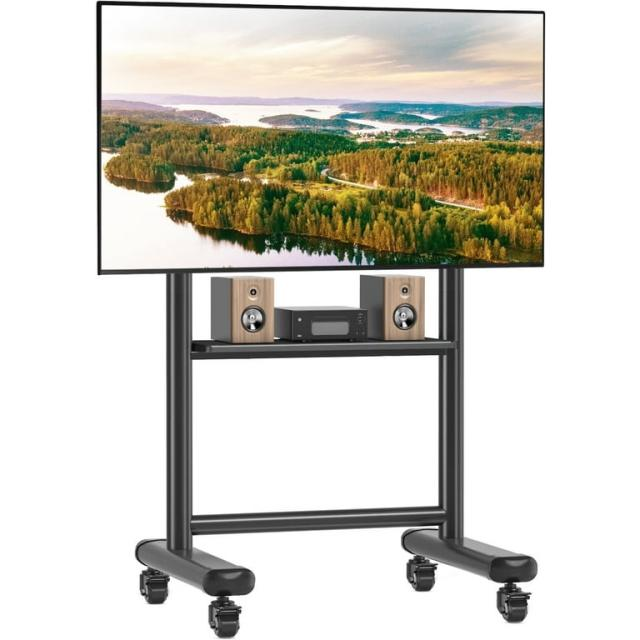electronics: (96, 2, 542, 636), (136, 268, 535, 636), (97, 1, 542, 272), (212, 275, 423, 342), (212, 276, 367, 342), (360, 275, 423, 339), (212, 276, 272, 342), (275, 305, 367, 340), (501, 587, 527, 620), (392, 303, 415, 328), (489, 572, 532, 580), (502, 552, 514, 569), (498, 552, 503, 559), (418, 540, 423, 544), (528, 563, 531, 568), (518, 564, 520, 568), (405, 290, 407, 292), (498, 550, 499, 551)
